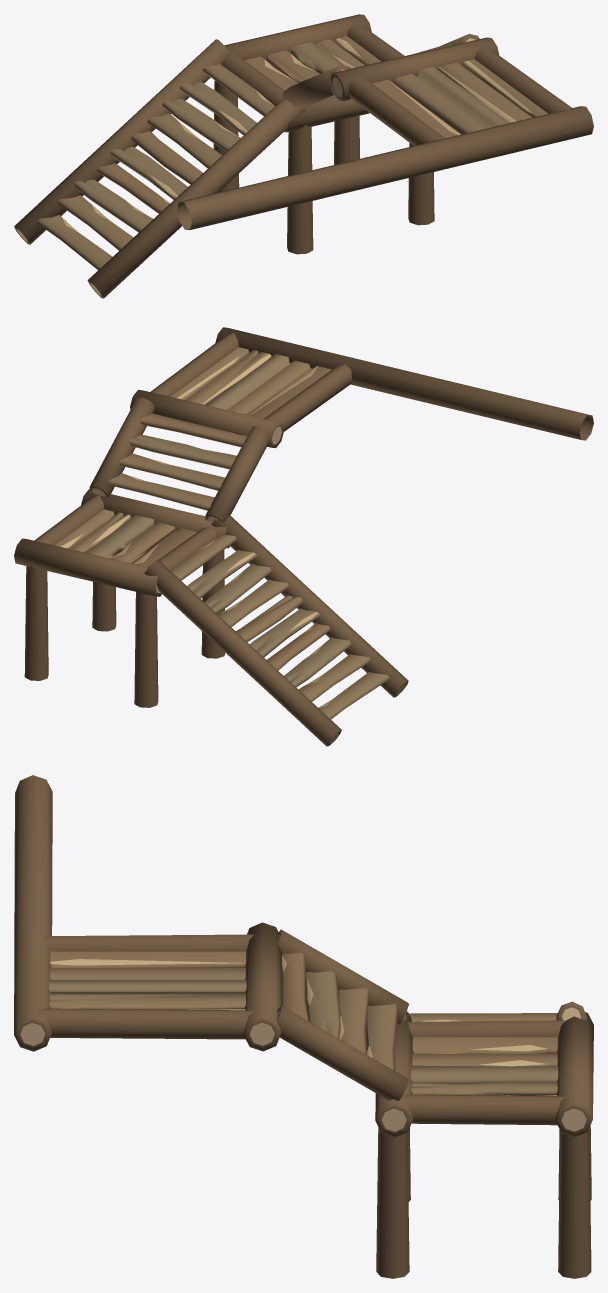
Rendered from rpgpp_ag_stairs_interior_02b_3m.fbx.
3 views of the same model, one above another, from view 1: azimuth 30°, elevation 25°; view 2: azimuth 150°, elevation 25°; view 3: azimuth 270°, elevation 25° (orthographic). The views are drawn at different scales.
Parts seen in each view (by area): view 1: rpgpp_ag_stairs_interior_02b_3m; view 2: rpgpp_ag_stairs_interior_02b_3m; view 3: rpgpp_ag_stairs_interior_02b_3m.
Boxes of the visible parts, left/top/right/bottom form: rpgpp_ag_stairs_interior_02b_3m: left=14, top=14, right=593, bottom=298; rpgpp_ag_stairs_interior_02b_3m: left=14, top=327, right=593, bottom=746; rpgpp_ag_stairs_interior_02b_3m: left=14, top=775, right=593, bottom=1278.
Size of the model in its own units: 6.01 by 3.12 by 6.13.
